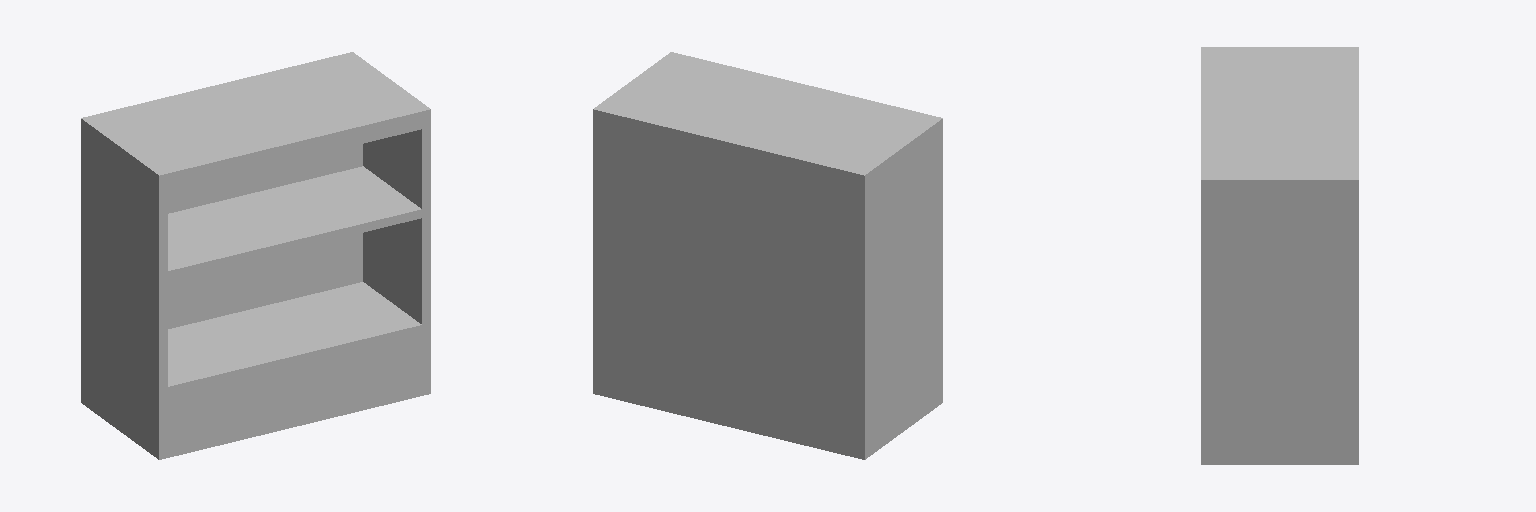
Rendered from backCounter_double.obj.
3 renders of one model, left to right at view 1: azimuth 30°, elevation 25°; view 2: azimuth 150°, elevation 25°; view 3: azimuth 270°, elevation 25°, orthographic.
Visible parts, largest first — view 1: backCounter_double; view 2: backCounter_double; view 3: backCounter_double.
Part boxes in pixels (x1,y1,x2,y2): backCounter_double: (81, 52, 430, 459); backCounter_double: (593, 52, 942, 459); backCounter_double: (1201, 47, 1358, 464).
Size of the model in its own units: 2 by 2 by 1.